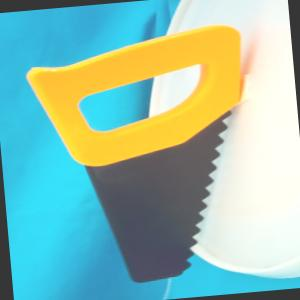serrote: (23, 23, 263, 292)
